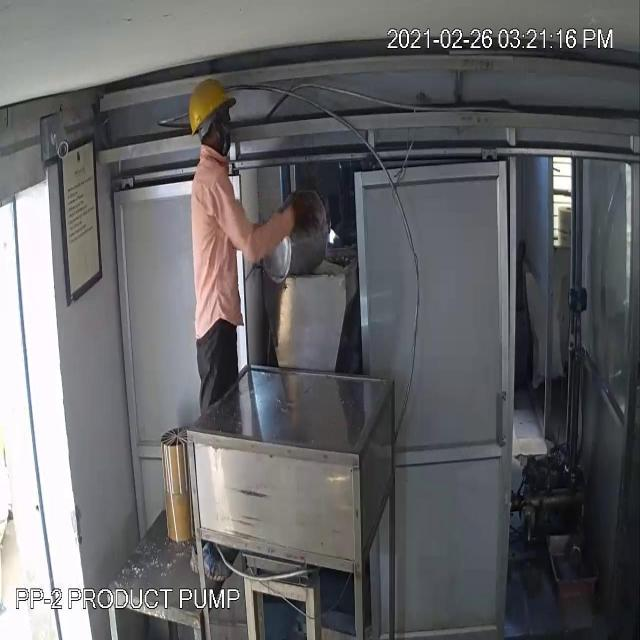helmet: (183, 75, 241, 134)
